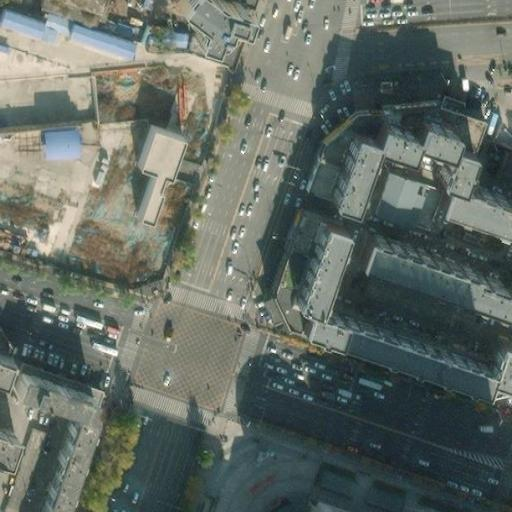building: (296, 309, 487, 397), (350, 237, 506, 315), (5, 369, 87, 512), (365, 121, 469, 186), (288, 223, 342, 313), (430, 180, 512, 238), (127, 120, 174, 213), (13, 362, 94, 410), (321, 132, 369, 209), (57, 19, 128, 61), (0, 4, 66, 43), (483, 346, 512, 391), (37, 126, 70, 154), (0, 430, 18, 467), (146, 23, 179, 43), (496, 148, 512, 179), (503, 274, 512, 302)
